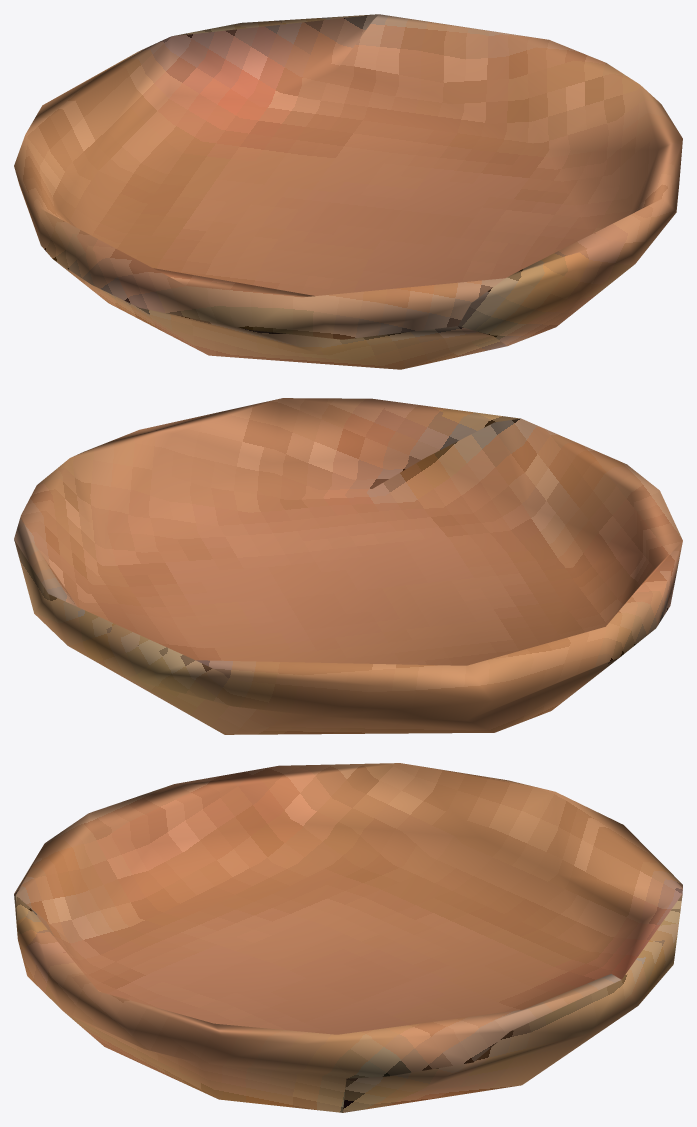
Rendered from Cole_Hardware_Saucer_Glazed_6-low.glb.
The picture shows the model from 3 angles, top to bottom: view 1: azimuth 30°, elevation 25°; view 2: azimuth 150°, elevation 25°; view 3: azimuth 270°, elevation 25°; orthographic projection.
Visible parts, largest first — view 1: Cole_Hardware_Saucer_Glazed_6; view 2: Cole_Hardware_Saucer_Glazed_6; view 3: Cole_Hardware_Saucer_Glazed_6.
Boxes of the visible parts, x1=… form: Cole_Hardware_Saucer_Glazed_6: x1=14, y1=14, x2=682, y2=369; Cole_Hardware_Saucer_Glazed_6: x1=14, y1=398, x2=682, y2=734; Cole_Hardware_Saucer_Glazed_6: x1=14, y1=763, x2=682, y2=1112.
Bounding box in the file's own units: 0.1573 × 0.0296 × 0.1579.
1 material, 1 textured.
